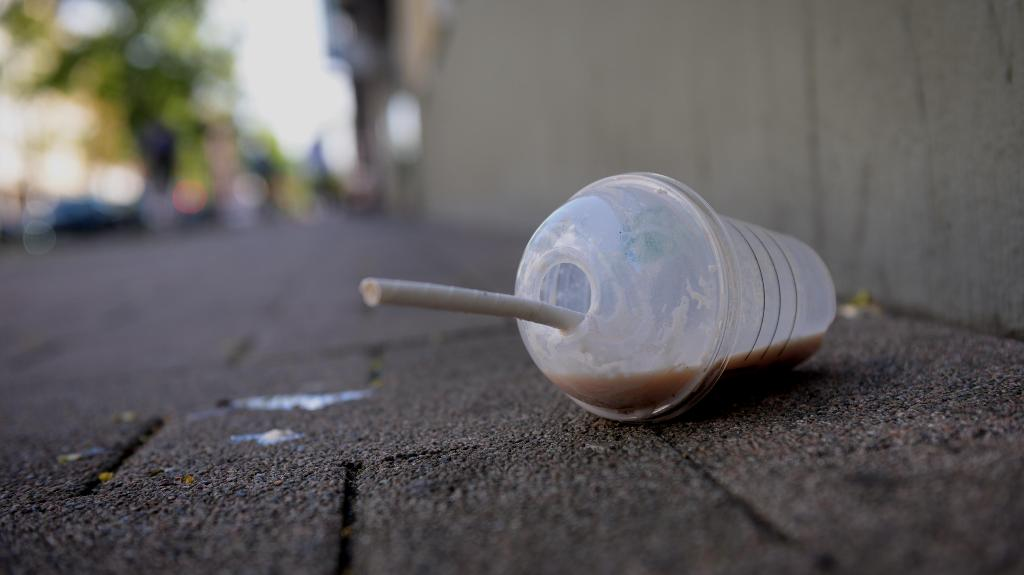garbage: (337, 145, 899, 445)
